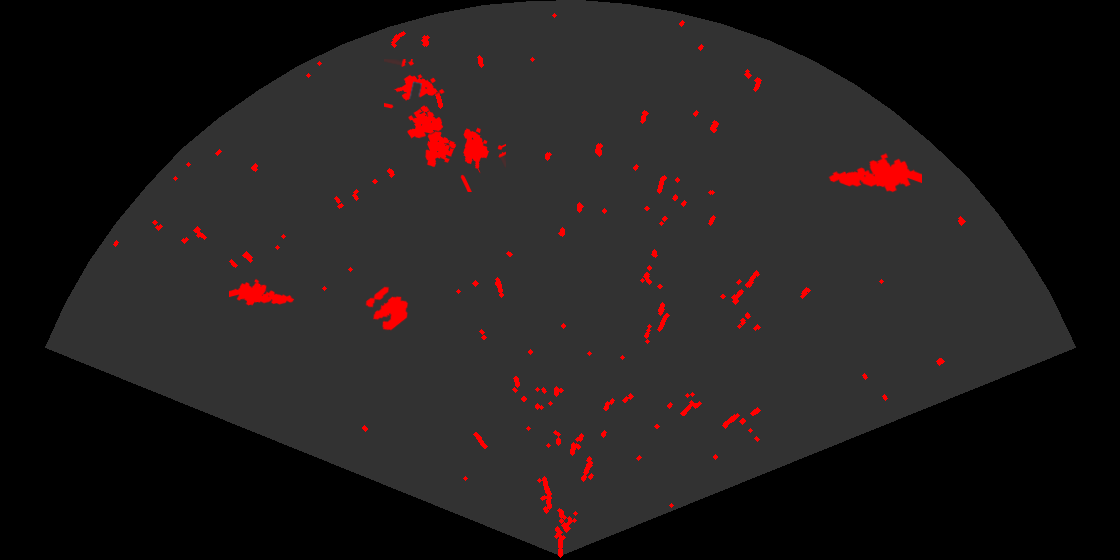ball: (364, 285, 410, 332)
cage: (423, 126, 506, 192), (384, 59, 446, 140)
frogman: (827, 151, 922, 194), (229, 277, 295, 307)
